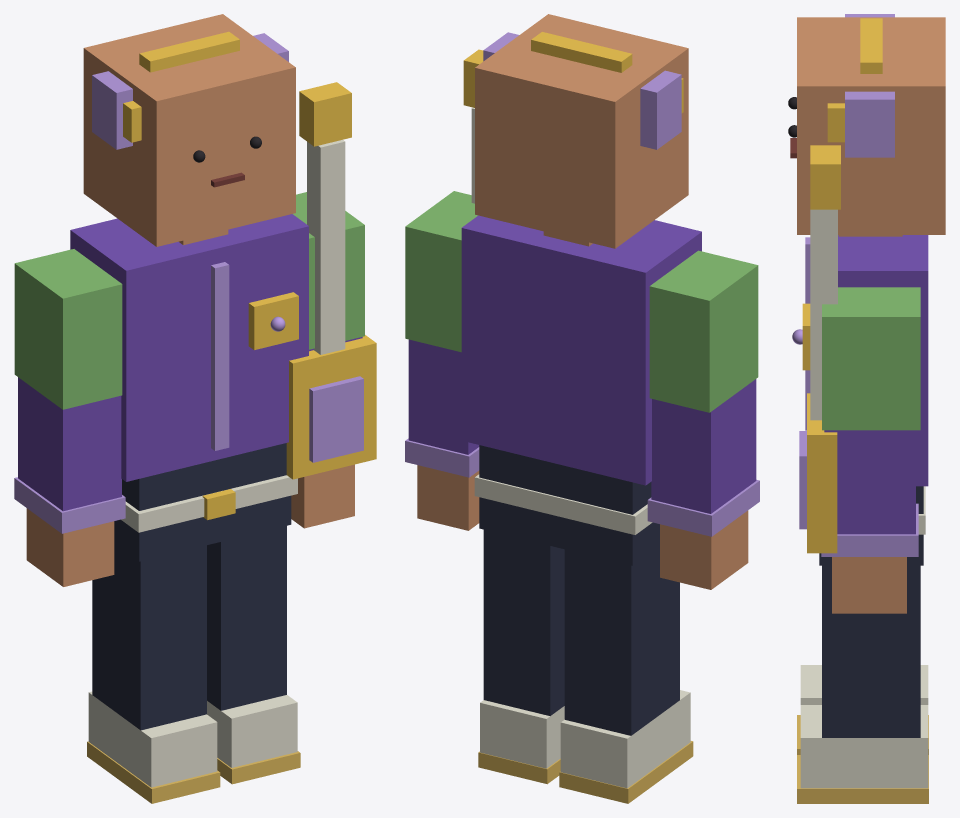
The model's file is echo_music_maker.glb.
3 renders of one model, left to right at view 1: azimuth 30°, elevation 25°; view 2: azimuth 150°, elevation 25°; view 3: azimuth 270°, elevation 25°, orthographic.
Parts seen in each view (by area): view 1: echo_music_maker_torso, echo_music_maker_head, echo_music_maker_left_leg, echo_music_maker_left_upper_sleeve, echo_music_maker_right_leg, echo_music_maker_left_forearm, echo_music_maker_waist, echo_music_maker_guitar_neck, echo_music_maker_left_boot, echo_music_maker_guitar_body, echo_music_maker_right_boot, echo_music_maker_left_hand (+14 smaller); view 2: echo_music_maker_torso, echo_music_maker_head, echo_music_maker_left_leg, echo_music_maker_left_upper_sleeve, echo_music_maker_right_leg, echo_music_maker_waist, echo_music_maker_left_forearm, echo_music_maker_right_upper_sleeve, echo_music_maker_left_boot, echo_music_maker_right_forearm, echo_music_maker_left_hand, echo_music_maker_right_boot (+9 smaller); view 3: echo_music_maker_head, echo_music_maker_right_upper_sleeve, echo_music_maker_right_leg, echo_music_maker_right_forearm, echo_music_maker_right_boot, echo_music_maker_torso, echo_music_maker_right_hand, echo_music_maker_guitar_neck, echo_music_maker_guitar_body, echo_music_maker_right_earcup, echo_music_maker_right_sole, echo_music_maker_right_cuff (+8 smaller).
Part boxes in pixels (x1,y1,x2,y2): echo_music_maker_torso: (70,214,308,481); echo_music_maker_head: (83,14,295,246); echo_music_maker_left_leg: (92,544,206,730); echo_music_maker_left_upper_sleeve: (14,249,122,409); echo_music_maker_right_leg: (207,526,286,710); echo_music_maker_left_forearm: (18,377,121,511); echo_music_maker_waist: (114,443,291,561); echo_music_maker_guitar_neck: (307,139,345,354); echo_music_maker_left_boot: (88,691,217,787); echo_music_maker_guitar_body: (286,335,376,479); echo_music_maker_right_boot: (207,695,297,767); echo_music_maker_left_hand: (26,508,114,586); echo_music_maker_torso: (461,215,701,485); echo_music_maker_head: (475,14,688,248); echo_music_maker_left_leg: (564,546,679,735); echo_music_maker_left_upper_sleeve: (649,250,758,412); echo_music_maker_right_leg: (483,529,564,715); echo_music_maker_waist: (479,445,659,565); echo_music_maker_left_forearm: (651,379,756,513); echo_music_maker_right_upper_sleeve: (405,191,477,352); echo_music_maker_left_boot: (560,690,690,788); echo_music_maker_right_forearm: (408,339,479,454); echo_music_maker_left_hand: (660,510,748,589); echo_music_maker_right_boot: (480,700,564,768); echo_music_maker_head: (797,17,945,234); echo_music_maker_right_upper_sleeve: (822,287,920,430); echo_music_maker_right_leg: (822,565,920,737); echo_music_maker_right_forearm: (824,430,915,534); echo_music_maker_right_boot: (800,705,928,788); echo_music_maker_torso: (838,235,928,486); echo_music_maker_right_hand: (832,557,906,613); echo_music_maker_guitar_neck: (810,209,837,420); echo_music_maker_guitar_body: (807,393,837,553); echo_music_maker_right_earcup: (845,91,894,157); echo_music_maker_right_sole: (797,755,928,803); echo_music_maker_right_cuff: (821,503,918,556).
Size of the model in its own units: 0.521 by 1.15 by 0.2269.
